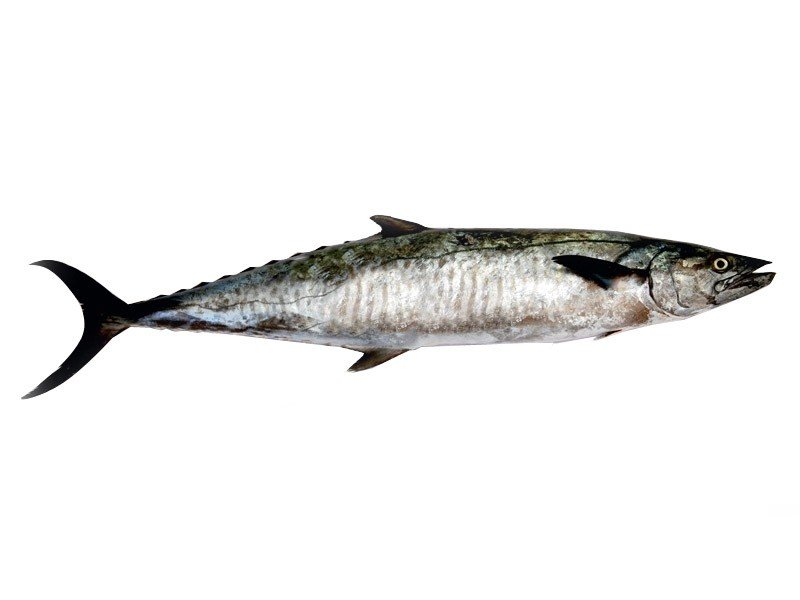Surmai: (21, 206, 782, 405)
